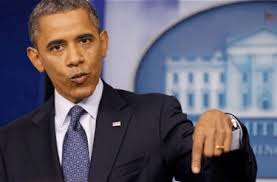hand: (180, 95, 243, 179)
